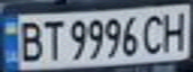6: (121, 12, 145, 57)
9: (63, 16, 87, 61), (84, 15, 106, 61), (103, 15, 124, 60)
B: (12, 17, 45, 63)
C: (139, 11, 169, 55)
H: (157, 7, 193, 53)
T: (39, 17, 66, 62)
